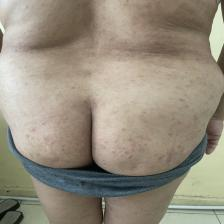DA: (18, 97, 183, 169)
